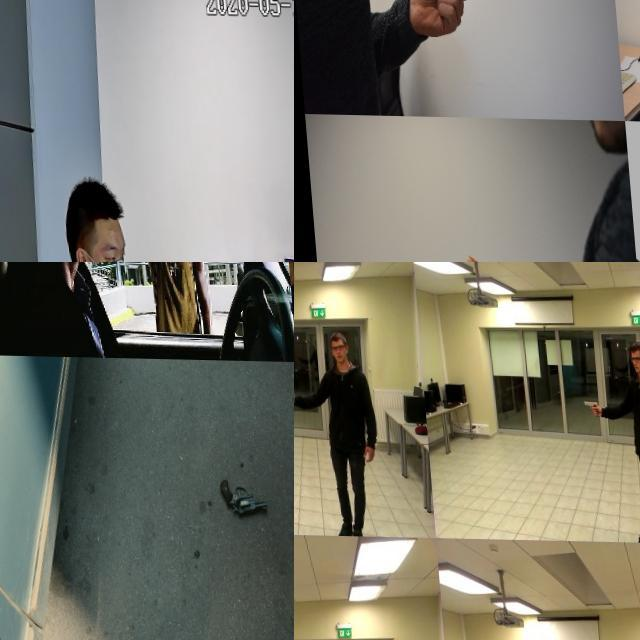gun-knife-thesis - v11 Yolov5 augmented: (210, 469, 263, 523), (108, 262, 135, 285), (576, 396, 596, 416), (294, 378, 305, 402)
